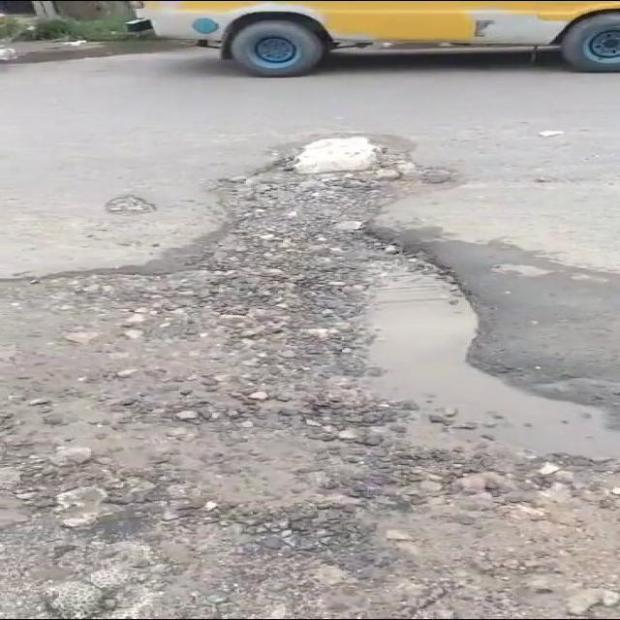lubang: (0, 156, 619, 616), (105, 195, 156, 215)
